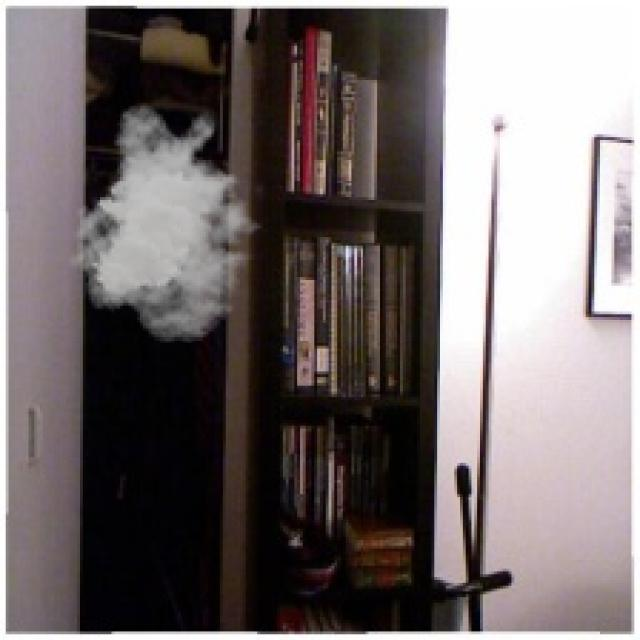smoke: (68, 103, 272, 343)
